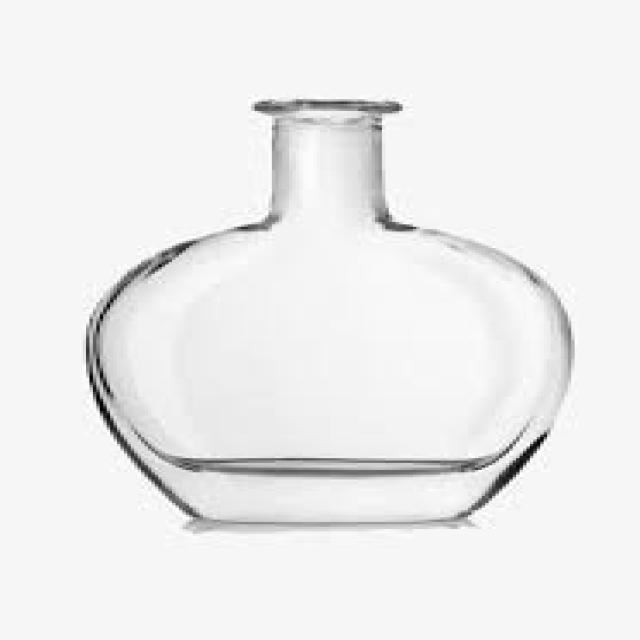glass: (86, 97, 568, 519)
